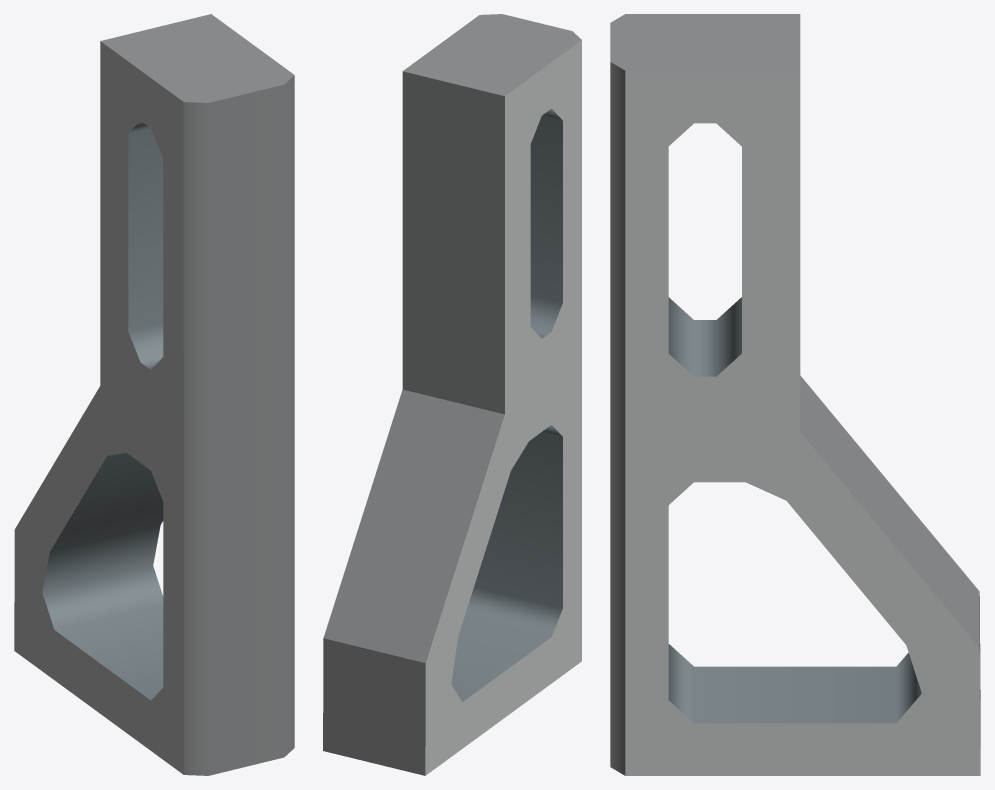
File: Short_column_003.fbx
The picture shows the model from 3 angles, left to right: view 1: azimuth 30°, elevation 25°; view 2: azimuth 150°, elevation 25°; view 3: azimuth 270°, elevation 25°; orthographic projection. The views are drawn at different scales.
Parts seen in each view (by area): view 1: Short_column_003; view 2: Short_column_003; view 3: Short_column_003.
Part boxes in pixels (bbox=[...]): Short_column_003: bbox=[14, 14, 294, 775]; Short_column_003: bbox=[323, 14, 581, 775]; Short_column_003: bbox=[610, 14, 980, 775].
Size of the model in its own units: 22.41 by 61.88 by 130.
